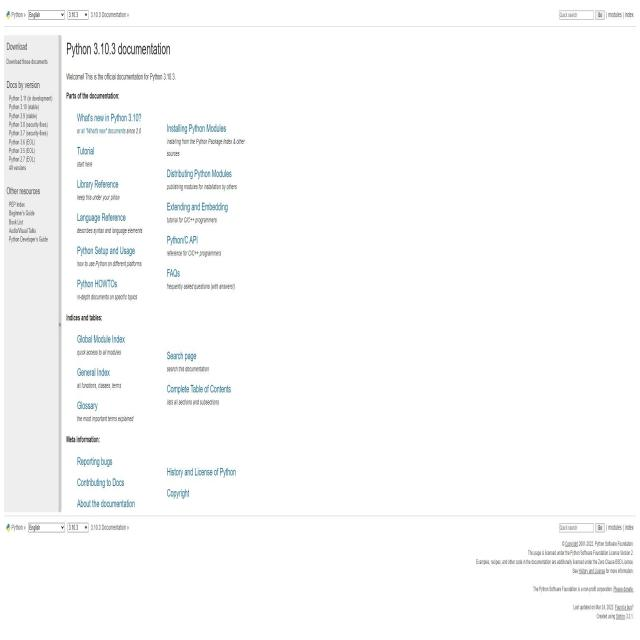button: (595, 10, 605, 20)
input: (559, 10, 594, 19)
select: (28, 10, 65, 20), (28, 524, 65, 532), (68, 10, 88, 19), (68, 523, 88, 532)
